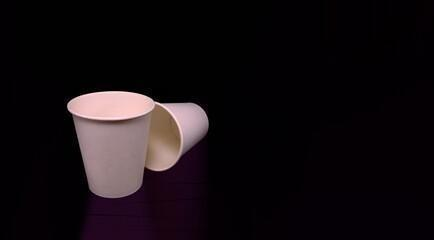cup-disposable: (66, 89, 156, 200), (152, 101, 210, 172)
